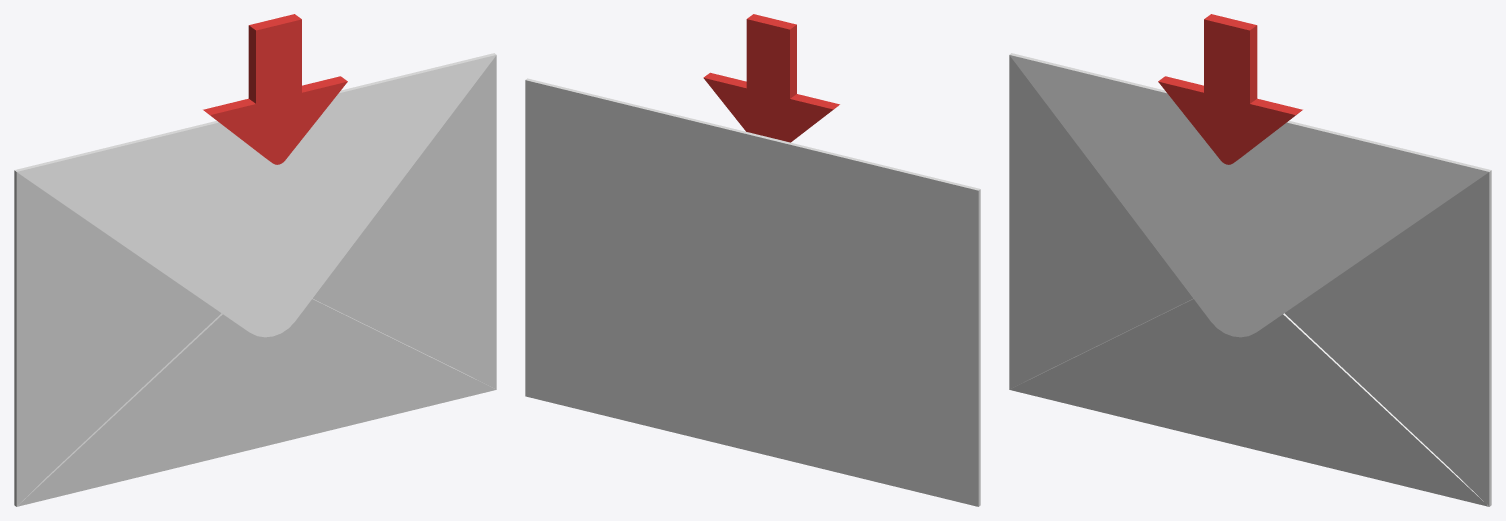
The model's file is envelope_with_arrow.gltf.
3 views of the same model, side by side, from view 1: azimuth 30°, elevation 25°; view 2: azimuth 150°, elevation 25°; view 3: azimuth 330°, elevation 25° (orthographic). The views are drawn at different scales.
Visible parts, largest first — view 1: Plane.335, Cube.964; view 2: Plane.335, Cube.964; view 3: Plane.335, Cube.964.
Part boxes in pixels (x1,y1,x2,y2): Plane.335: (14,53,496,506); Cube.964: (203,14,347,164); Plane.335: (525,78,980,506); Cube.964: (703,14,839,142); Plane.335: (1009,53,1491,506); Cube.964: (1158,14,1302,164).
Size of the model in its own units: 2.34 by 2.05 by 0.2093.
Materials: 1 (1 with a texture image).
